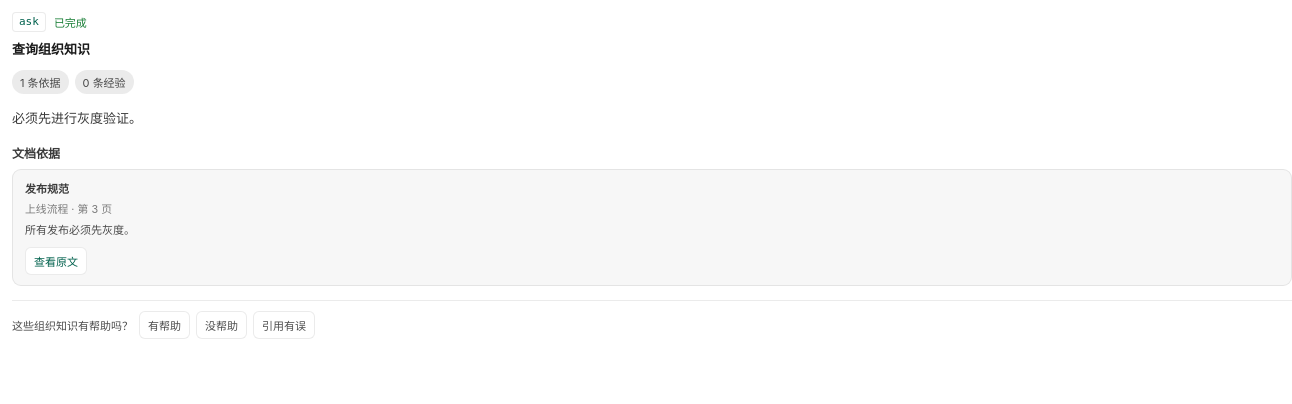
Scenario: ToolCallCard › 组织知识回答可查看引用原文并提交反馈
The width and height of the screenshot is (1292, 404).
Click the button "查看原文": click(56, 261) [25,247,87,275]
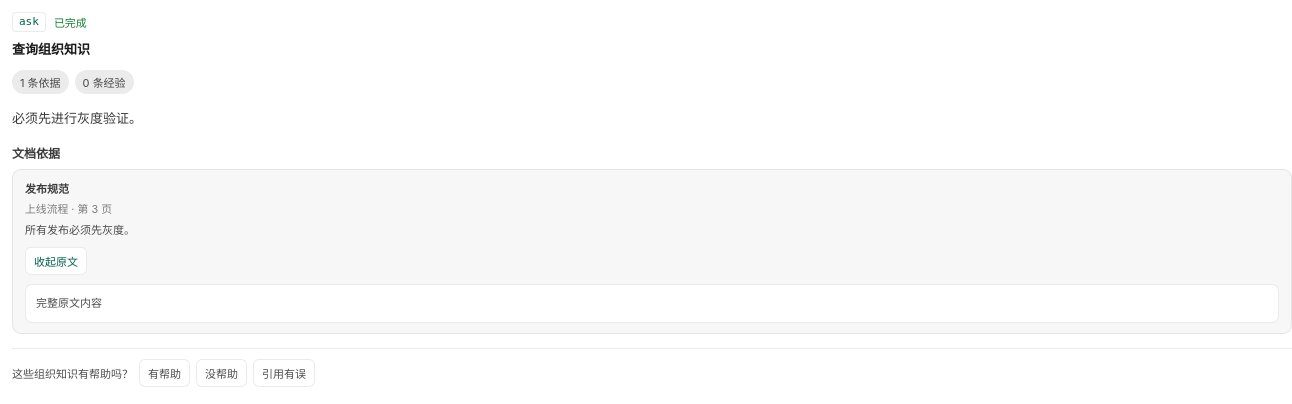
Check: the text "完整原文内容" is shown, box [25,284,1279,323]
Click the button "有帮助": click(164, 373) [139,359,190,387]
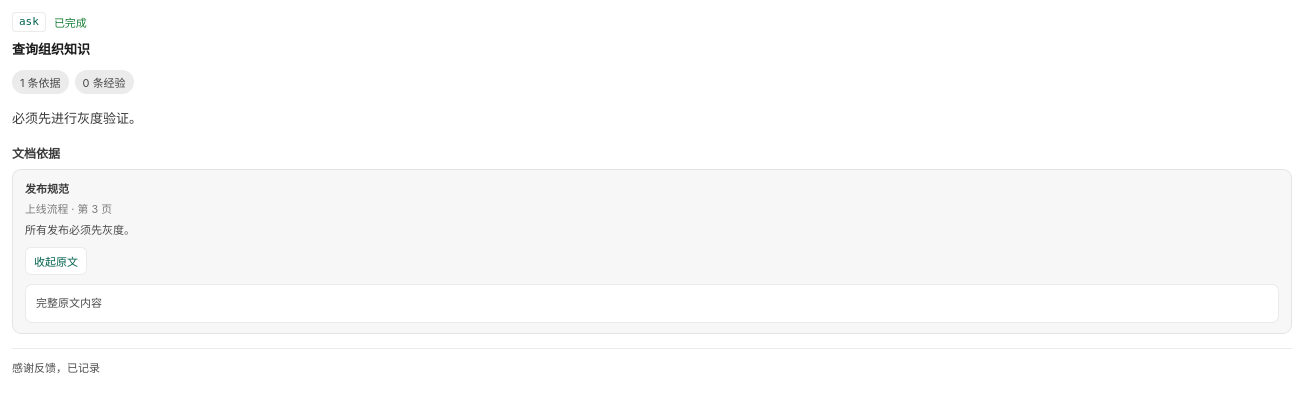
Check: the text "感谢反馈，已记录" is shown, box [12,359,100,375]
